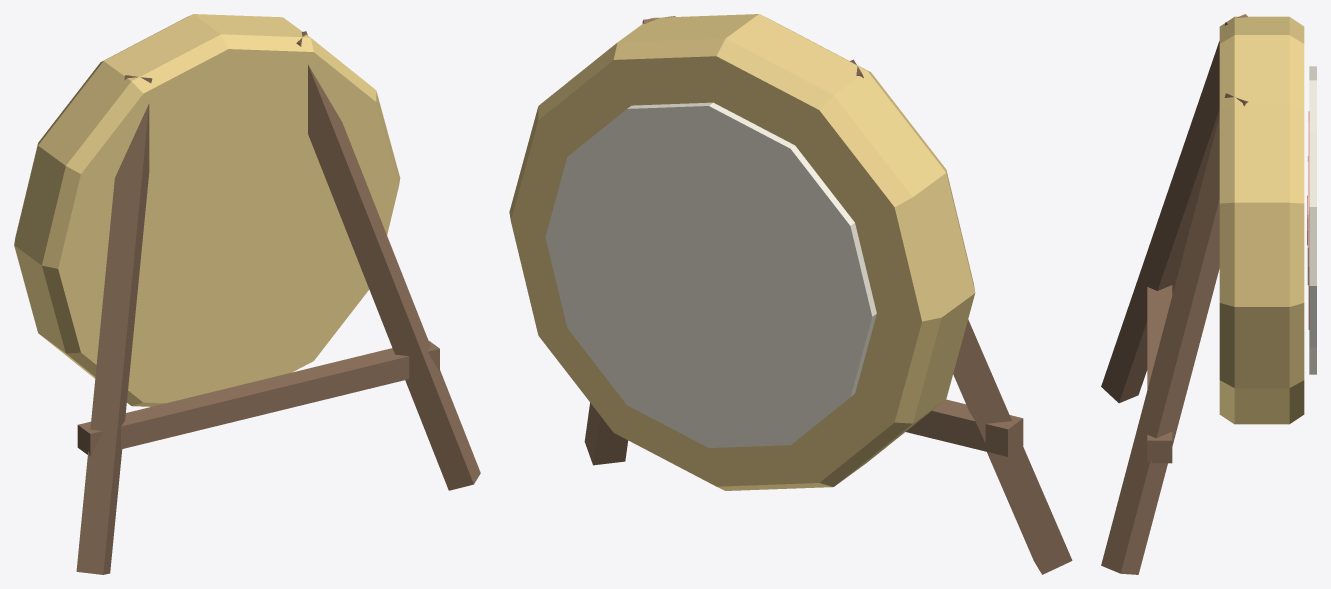
The model's file is straw-target.glb.
The picture shows the model from 3 angles, left to right: view 1: azimuth 30°, elevation 25°; view 2: azimuth 150°, elevation 25°; view 3: azimuth 270°, elevation 25°; orthographic projection. The views are drawn at different scales.
Visible parts, largest first — view 1: straw-target; view 2: straw-target; view 3: straw-target.
Part boxes in pixels (box(x1,y1,x2,y2)): straw-target: box(14, 14, 480, 574); straw-target: box(509, 14, 1072, 574); straw-target: box(1101, 14, 1316, 574).
Bounding box in the file's own units: 1.85 × 1.99 × 0.8652.
